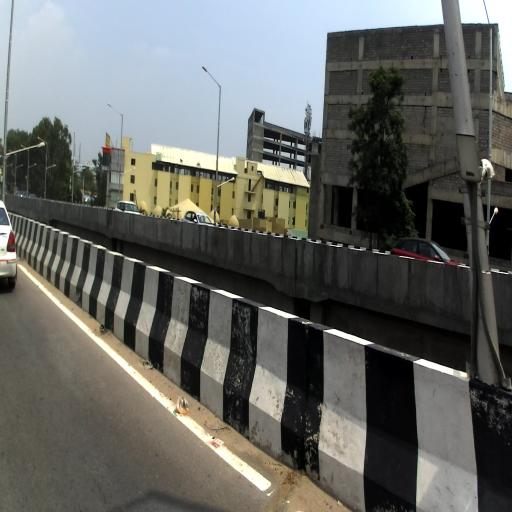street_light_0: (3, 142, 45, 156), (201, 65, 222, 90), (214, 176, 236, 194), (485, 209, 500, 228), (107, 102, 123, 118), (60, 122, 75, 137), (119, 166, 136, 176), (72, 166, 86, 174), (37, 136, 48, 146), (21, 145, 30, 153), (45, 165, 57, 170), (9, 150, 17, 157), (28, 162, 37, 168), (15, 164, 23, 170), (6, 162, 13, 167)
